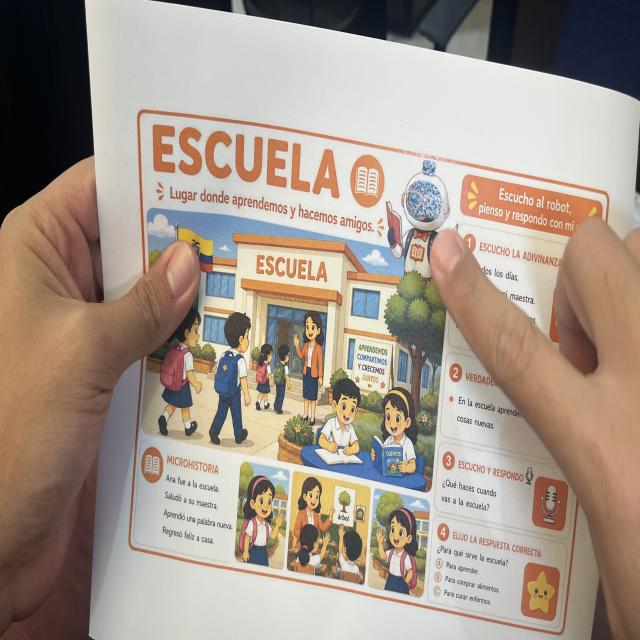escuela: (125, 106, 613, 640)
